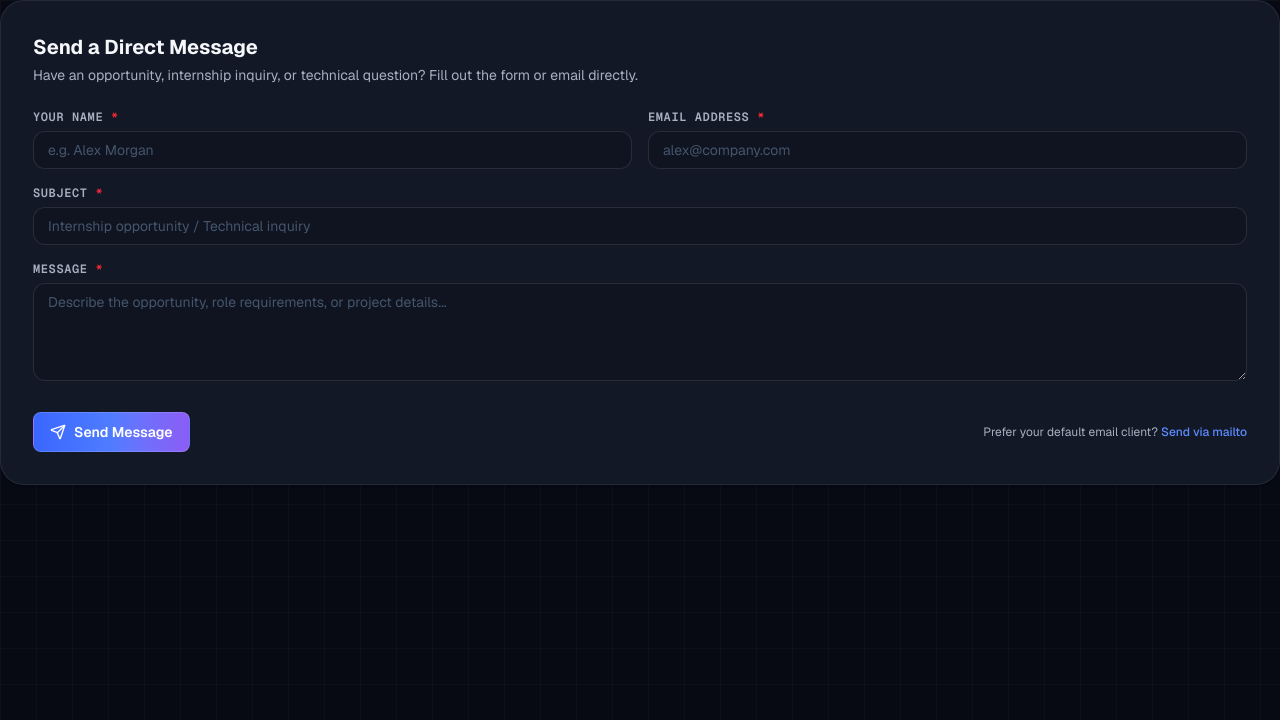
Test: ContactForm Component › validates empty submission and renders validation errors
This screenshot has width=1280, height=720.
Click the button "Send Message".
click(111, 432)  # box [33,412,190,452]
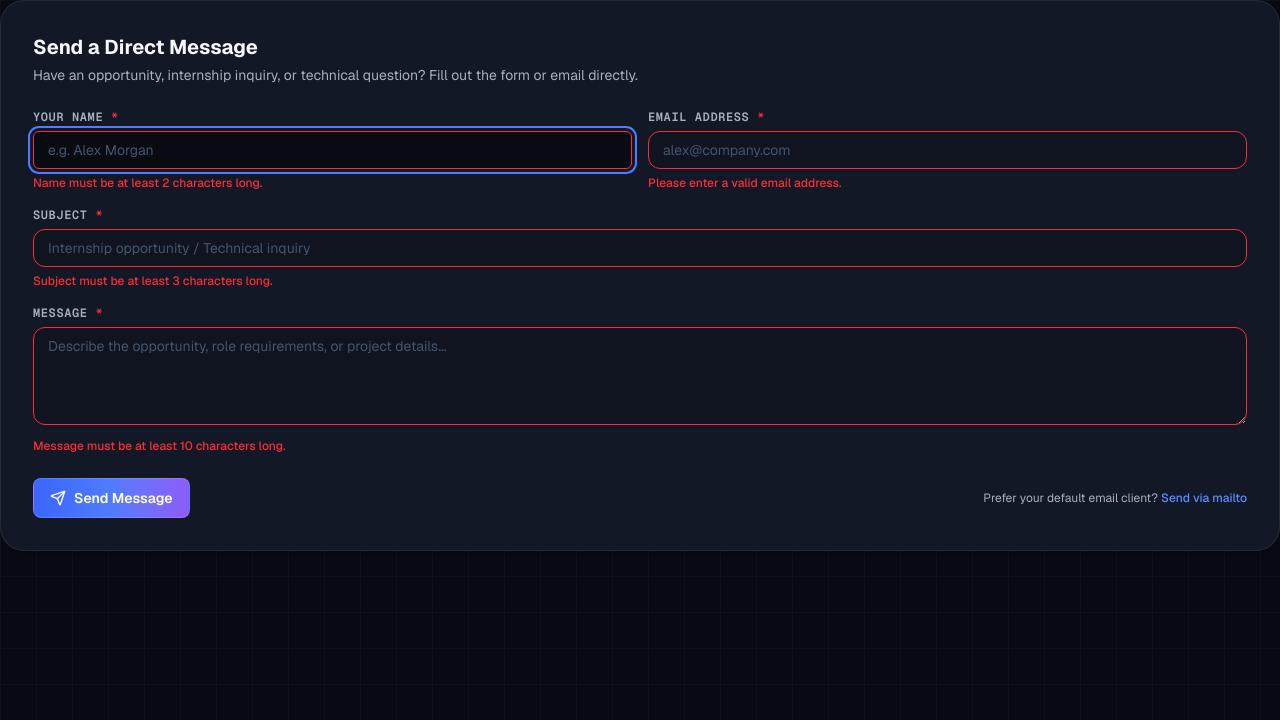
Check: the text "Name must be at least 2 characters long." is shown, box [33,175,262,191]
Check: the text "Please enter a valid email address." is shown, box [648,175,842,191]
Check: the text "Subject must be at least 3 characters long." is shown, box [33,273,273,289]
